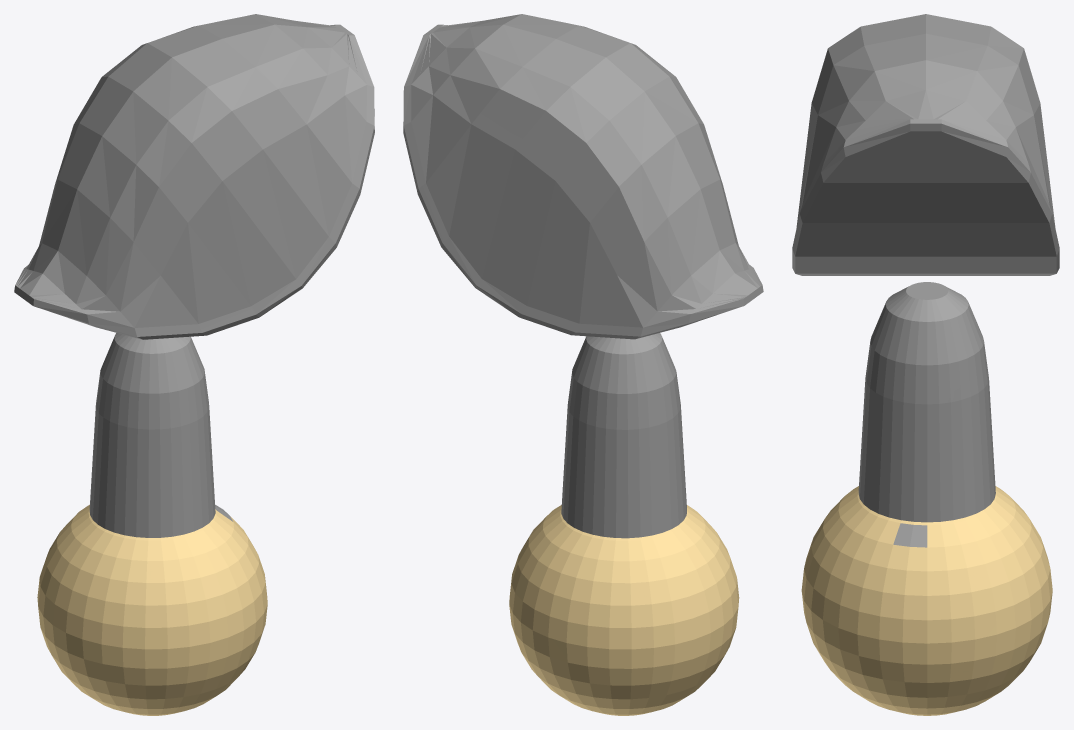
The model's file is handLeft.obj.
3 views of the same model, side by side, from view 1: azimuth 30°, elevation 25°; view 2: azimuth 150°, elevation 25°; view 3: azimuth 270°, elevation 25° (orthographic). The views are drawn at different scales.
Visible parts, largest first — view 1: 腕_左_円柱.003; view 2: 腕_左_円柱.003; view 3: 腕_左_円柱.003.
Boxes of the visible parts, x1=… form: 腕_左_円柱.003: x1=14, y1=14, x2=374, y2=715; 腕_左_円柱.003: x1=403, y1=14, x2=763, y2=715; 腕_左_円柱.003: x1=792, y1=14, x2=1059, y2=715.
Bounding box in the file's own units: 0.9889 × 1.9 × 0.6507.
1 material, 1 textured.
